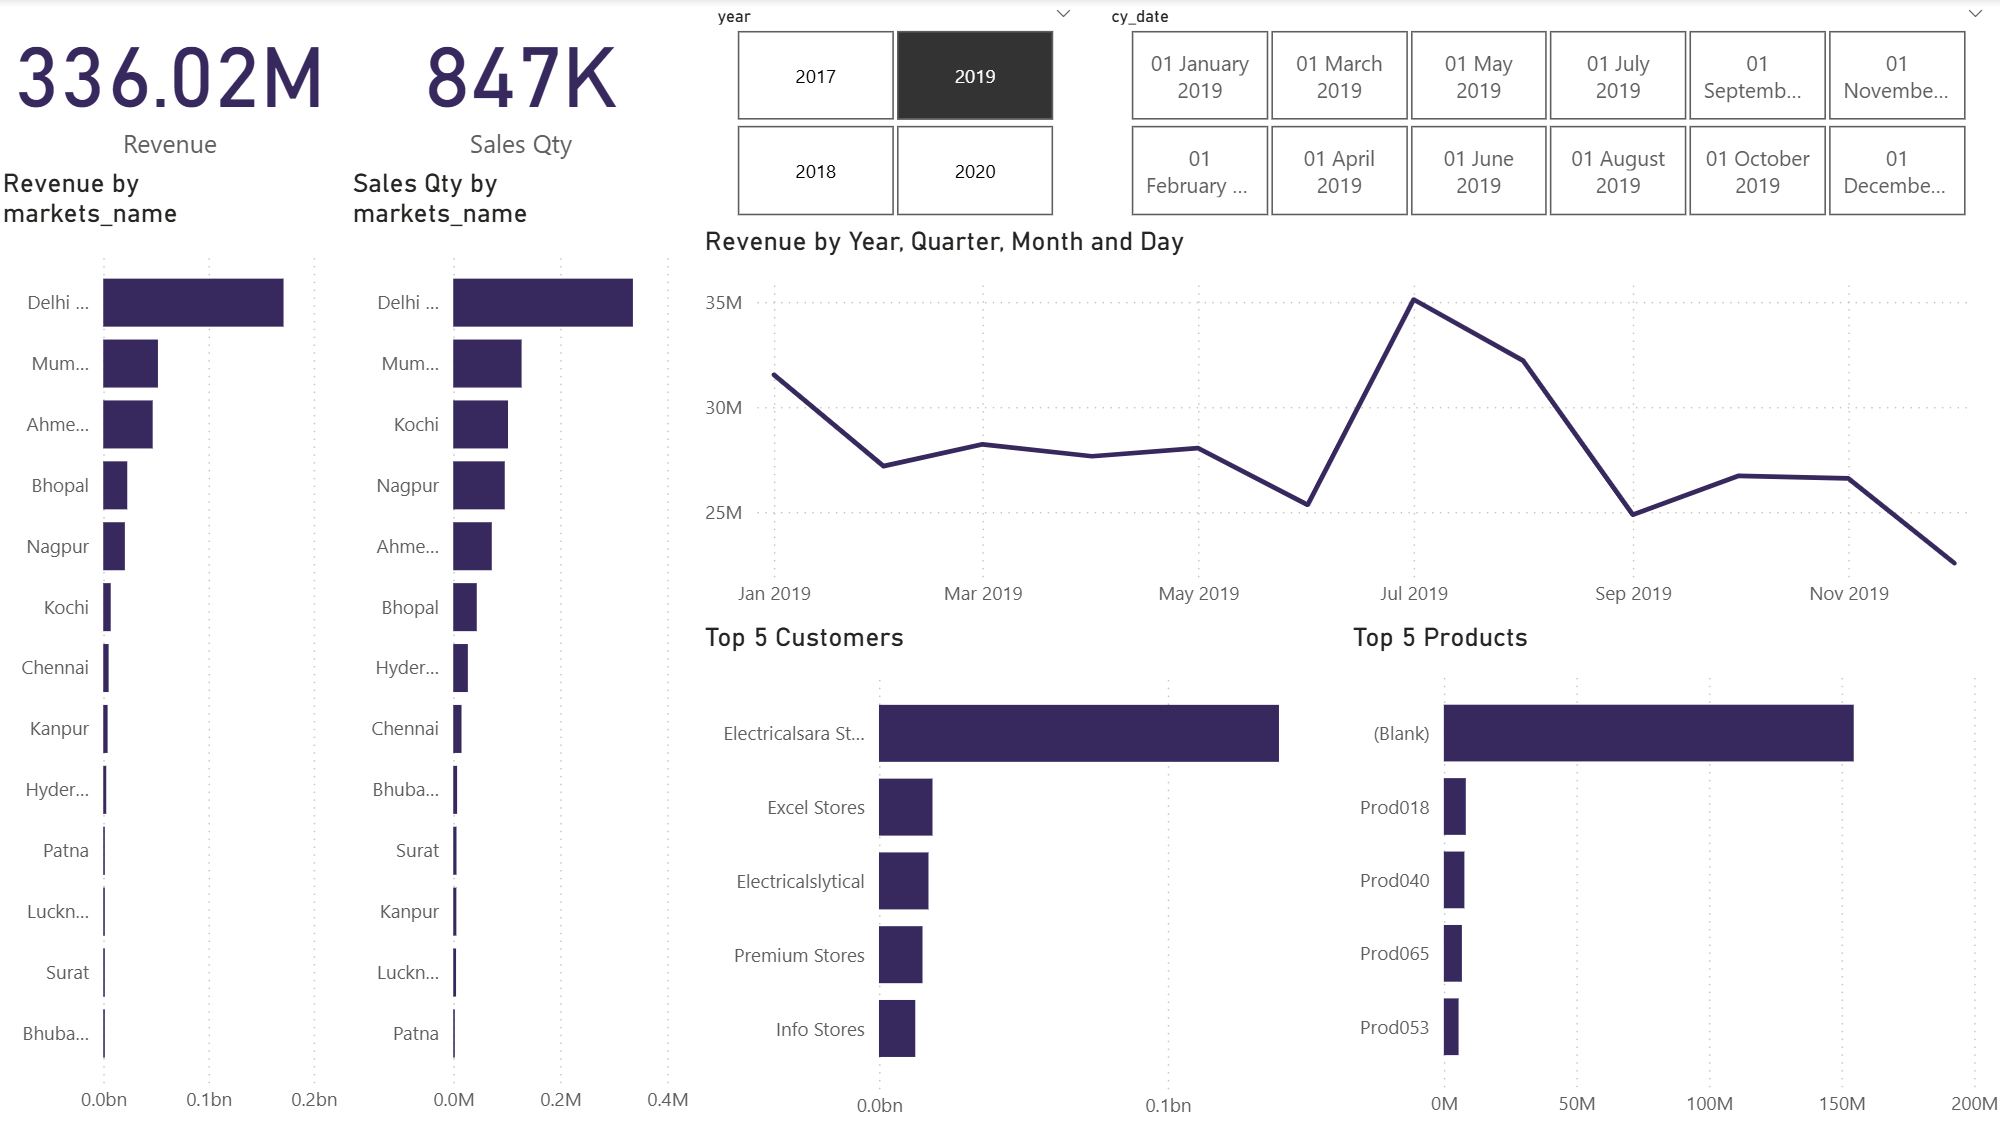

This screenshot's page, from the dashboard's own definition file:
{"tool":"powerbi","page":{"name":"Page 1","canvas":[1280,720],"ordinal":0},"visuals":[{"type":"card","fields":{"Values":["BaseMeasures (2).Revenue"]},"box":[0,0,223.1,108.4],"z":0},{"type":"card","fields":{"Values":["BaseMeasures (2).Sales Qty"]},"box":[223.1,0,224.4,108.4],"z":1000},{"type":"barChart","fields":{"Y":["BaseMeasures (2).Revenue"],"Category":["sales markets.markets_name"]},"box":[0,108.4,223.1,612],"z":2000},{"type":"barChart","fields":{"Y":["BaseMeasures (2).Sales Qty"],"Category":["sales markets.markets_name"]},"box":[223.1,108.4,224.4,612],"z":3000},{"type":"slicer","fields":{"Values":["sales date.year"]},"box":[447.5,0,251.2,145.3],"z":4000},{"type":"slicer","fields":{"Values":["sales date.cy_date"]},"box":[698.6,0,581.4,145.3],"z":5000},{"type":"barChart","title":"Top 5 Customers","fields":{"Y":["BaseMeasures (2).Revenue"],"Category":["sales customers.custmer_name"]},"box":[447.5,397.8,413.1,326.4],"z":6000},{"type":"barChart","title":"Top 5 Products","fields":{"Y":["BaseMeasures (2).Revenue"],"Category":["sales products.product_code"]},"box":[860.6,397.8,422,325.1],"z":7000},{"type":"lineChart","fields":{"Y":["BaseMeasures (2).Revenue"],"Category":["sales date.cy_date.Variation.Date Hierarchy.Year","sales date.cy_date.Variation.Date Hierarchy.Quarter","sales date.cy_date.Variation.Date Hierarchy.Month","sales date.cy_date.Variation.Date Hierarchy.Day"]},"box":[447.5,145.3,832.5,252.4],"z":8000}]}

Visuals, with their boxes in screenshot pixels (x1, y1, x2, y2), scaled from the page's 1280x720 canvas onto the 2000x1123 screenshot:
card - BaseMeasures (2).Revenue: crop(0, 0, 349, 169)
card - BaseMeasures (2).Sales Qty: crop(349, 0, 699, 169)
barChart - BaseMeasures (2).Revenue x sales markets.markets_name: crop(0, 169, 349, 1122)
barChart - BaseMeasures (2).Sales Qty x sales markets.markets_name: crop(349, 169, 699, 1122)
slicer - sales date.year: crop(699, 0, 1092, 227)
slicer - sales date.cy_date: crop(1092, 0, 1999, 227)
"Top 5 Customers" barChart: crop(699, 620, 1345, 1122)
"Top 5 Products" barChart: crop(1345, 620, 1999, 1122)
lineChart - BaseMeasures (2).Revenue x sales date.cy_date.Variation.Date Hierarchy.Year: crop(699, 227, 1999, 620)
